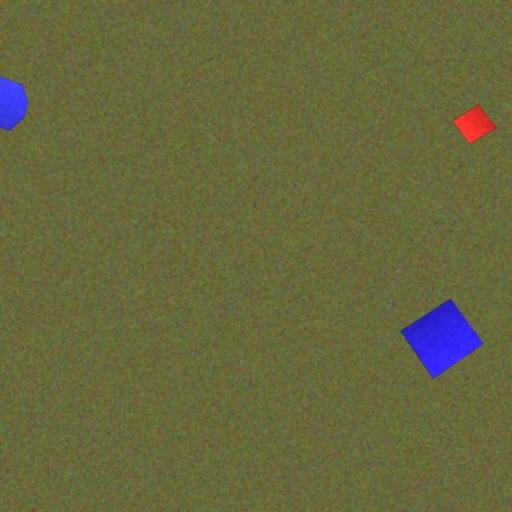BLUE_SQUARE: (400, 298, 484, 380)
RED_SQUARE: (452, 104, 497, 145)
